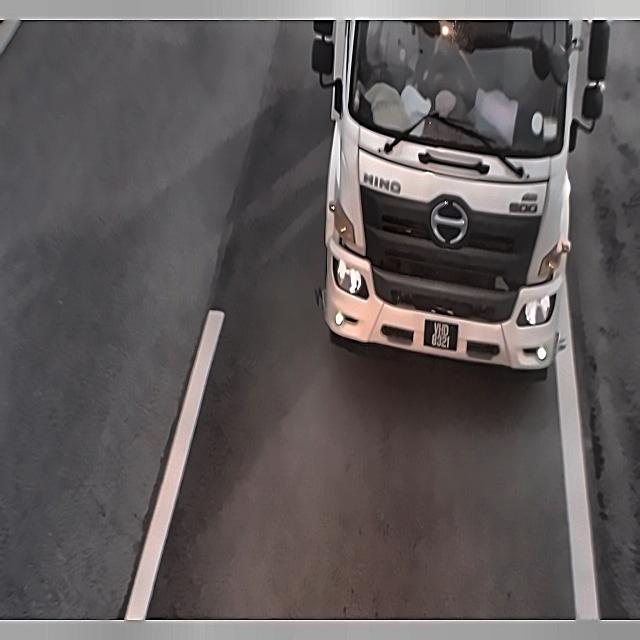car: (419, 315, 460, 356)
